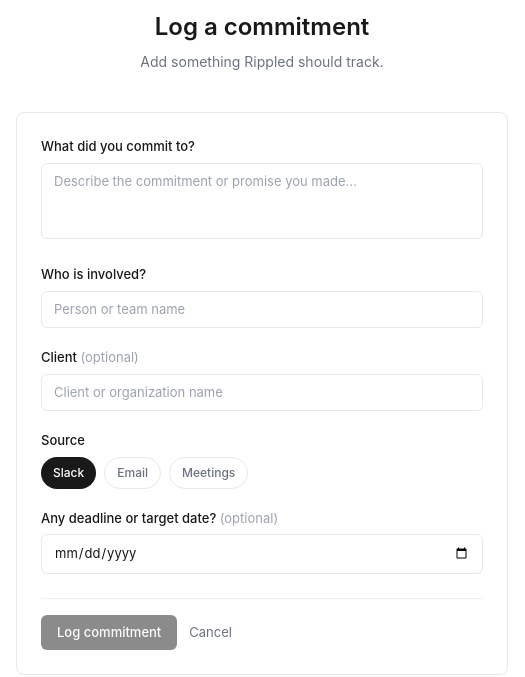
LogCommitmentModal › shows auth error with actionable message when not authenticated
Type "Deliver the report by Friday" into the text box with placeholder "Describe the commitment or promise you made..." at (262, 201), box [41,162,483,239]
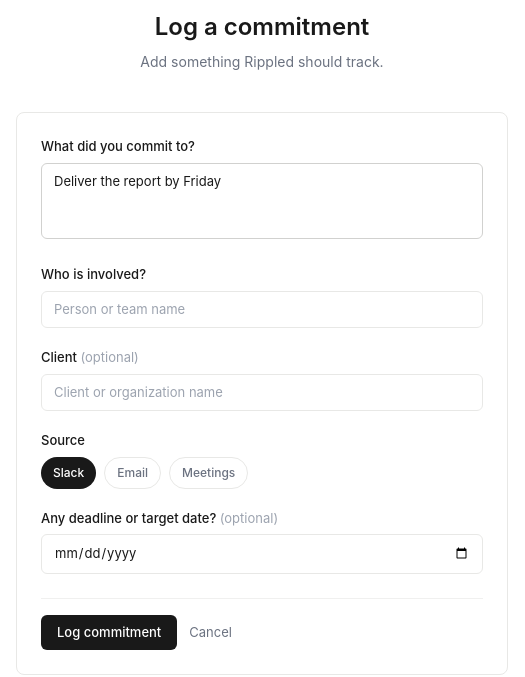
Click the button "Log commitment" at (109, 632), box [41,614,177,650]
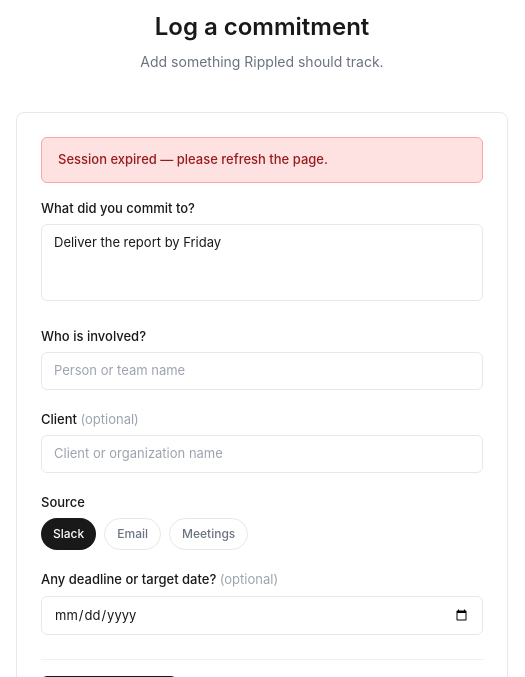
Check: the text "Session expired — please refresh the page." is shown, box [41,137,483,182]
